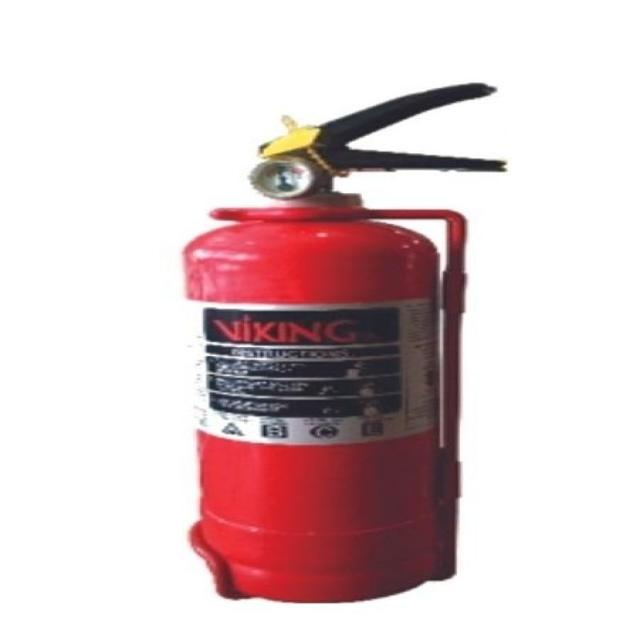fire_extinguisher: (170, 78, 514, 608)
